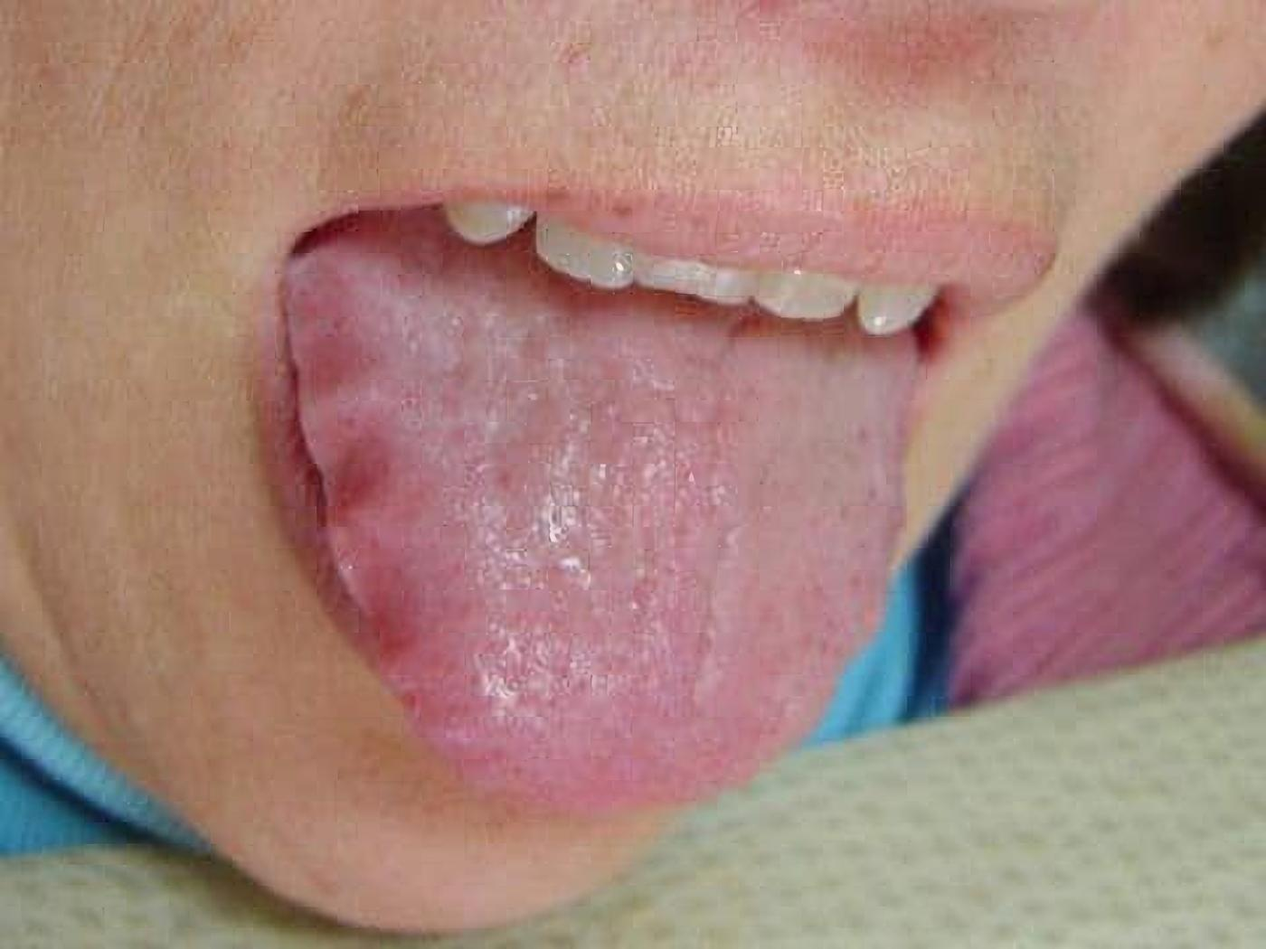baitaishe: (284, 249, 922, 819)
chihenshe: (284, 326, 434, 683)
